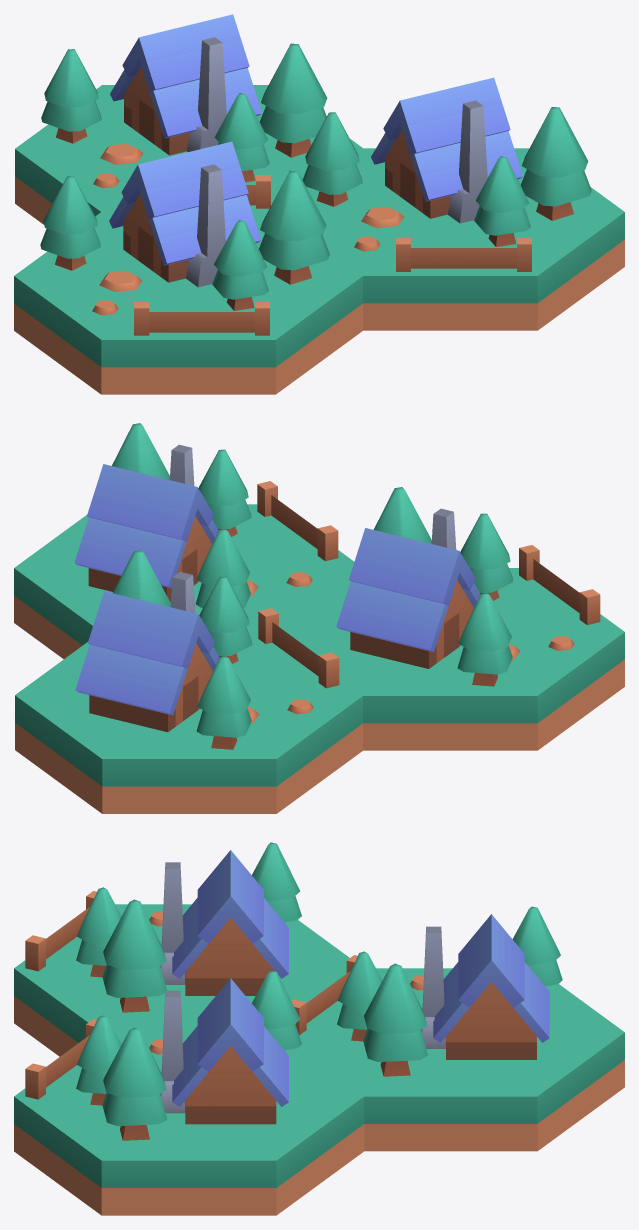
Rendered from house3 1.fbx.
The picture shows the model from 3 angles, top to bottom: view 1: azimuth 30°, elevation 25°; view 2: azimuth 150°, elevation 25°; view 3: azimuth 270°, elevation 25°; orthographic projection.
Parts seen in each view (by area): view 1: building_house; view 2: building_house; view 3: building_house.
Boxes of the visible parts, x1,y1,x2,y2 form: building_house: (14,14,624,394); building_house: (14,423,624,813); building_house: (14,842,624,1215).
Size of the model in its own units: 200 by 60 by 201.
